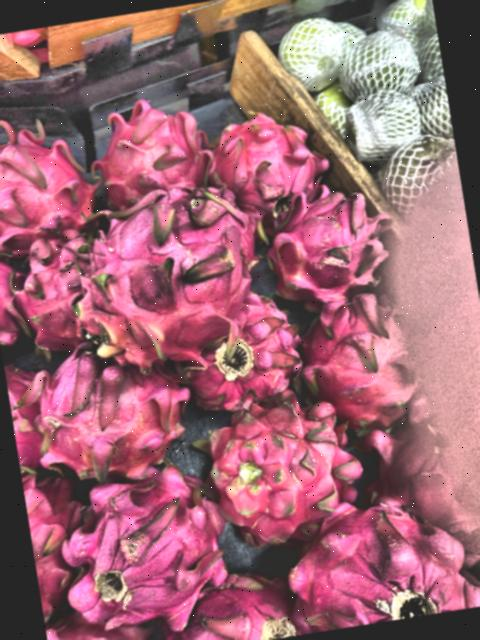buah-naga-matang: (57, 177, 276, 379), (53, 464, 243, 638), (9, 333, 208, 496), (181, 382, 366, 542), (277, 491, 480, 635), (291, 272, 425, 428), (262, 176, 395, 316), (194, 98, 335, 222), (179, 294, 322, 416), (0, 107, 110, 265), (76, 97, 215, 217), (20, 458, 100, 636), (4, 233, 106, 360), (152, 579, 305, 640)
